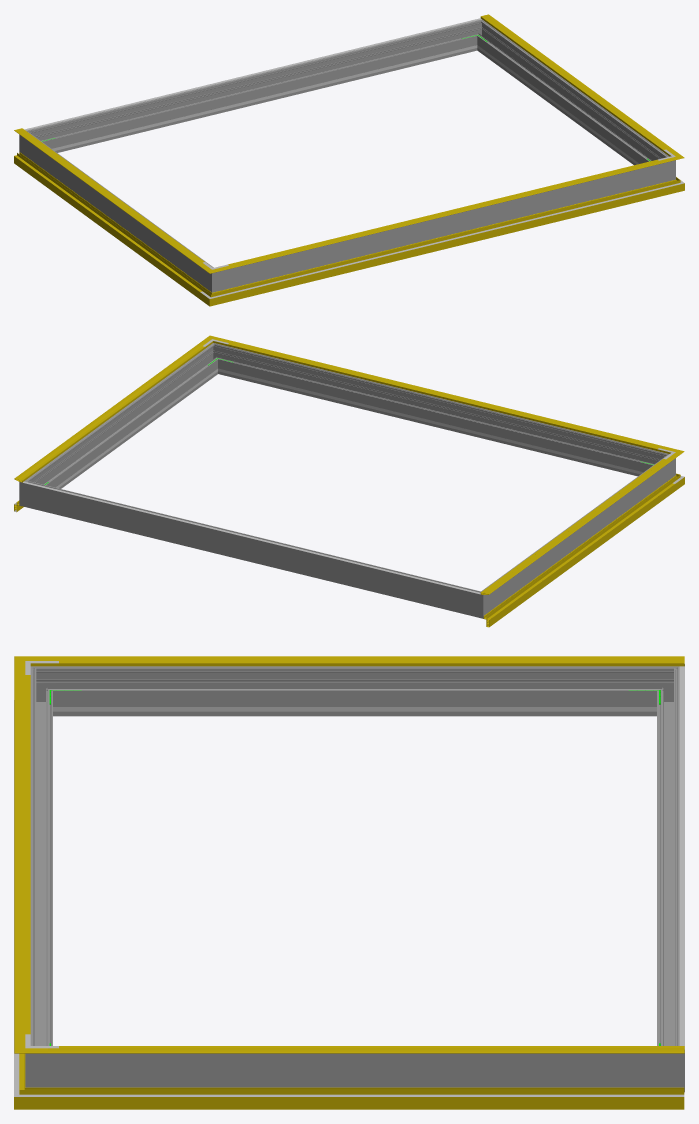
The picture shows the model from 3 angles, top to bottom: view 1: azimuth 30°, elevation 25°; view 2: azimuth 150°, elevation 25°; view 3: azimuth 270°, elevation 25°; orthographic projection. The views are drawn at different scales.
Visible parts, largest first — view 1: 3DGeom-278, 3DGeom-300, 3DGeom-90, 3DGeom-299, 3DGeom-270, 3DGeom-85, 3DGeom-141, 3DGeom-145, 3DGeom-246, 3DGeom-147, 3DGeom-222, 3DGeom-100 (+6 smaller); view 2: 3DGeom-300, 3DGeom-278, 3DGeom-299, 3DGeom-270, 3DGeom-141, 3DGeom-85, 3DGeom-145, 3DGeom-241, 3DGeom-147, 3DGeom-222, 3DGeom-158, 3DGeom-280 (+5 smaller); view 3: 3DGeom-270, 3DGeom-299, 3DGeom-97, 3DGeom-300, 3DGeom-278, 3DGeom-147, 3DGeom-141, 3DGeom-145, 3DGeom-234, 3DGeom-222, 3DGeom-158, 3DGeom-98 (+7 smaller).
Part boxes in pixels (bbox=[...]): 3DGeom-278: bbox=[38, 23, 474, 152]; 3DGeom-300: bbox=[229, 164, 658, 288]; 3DGeom-90: bbox=[223, 182, 667, 302]; 3DGeom-299: bbox=[479, 25, 663, 165]; 3DGeom-270: bbox=[29, 136, 207, 284]; 3DGeom-85: bbox=[14, 152, 205, 298]; 3DGeom-141: bbox=[224, 159, 667, 269]; 3DGeom-145: bbox=[480, 14, 674, 153]; 3DGeom-246: bbox=[58, 49, 460, 149]; 3DGeom-147: bbox=[14, 129, 204, 266]; 3DGeom-222: bbox=[24, 18, 481, 130]; 3DGeom-100: bbox=[226, 186, 667, 294]; 3DGeom-300: bbox=[221, 346, 657, 476]; 3DGeom-278: bbox=[36, 484, 468, 614]; 3DGeom-299: bbox=[32, 349, 216, 488]; 3DGeom-270: bbox=[488, 460, 666, 608]; 3DGeom-141: bbox=[222, 339, 667, 452]; 3DGeom-85: bbox=[483, 480, 675, 627]; 3DGeom-145: bbox=[14, 342, 208, 482]; 3DGeom-241: bbox=[234, 372, 637, 473]; 3DGeom-147: bbox=[480, 457, 674, 594]; 3DGeom-222: bbox=[23, 481, 480, 594]; 3DGeom-158: bbox=[228, 343, 658, 449]; 3DGeom-280: bbox=[466, 586, 493, 618]; 3DGeom-270: bbox=[58, 666, 651, 716]; 3DGeom-299: bbox=[58, 1053, 651, 1087]; 3DGeom-97: bbox=[47, 1087, 684, 1109]; 3DGeom-300: bbox=[30, 678, 52, 1045]; 3DGeom-278: bbox=[657, 678, 679, 1045]; 3DGeom-147: bbox=[48, 656, 684, 666]; 3DGeom-141: bbox=[14, 670, 25, 1038]; 3DGeom-145: bbox=[48, 1048, 684, 1053]; 3DGeom-234: bbox=[85, 707, 624, 711]; 3DGeom-222: bbox=[679, 666, 684, 1049]; 3DGeom-158: bbox=[25, 675, 30, 1034]; 3DGeom-98: bbox=[47, 1094, 684, 1096].
Size of the model in its own units: 4.27 by 0.2829 by 3.05.
